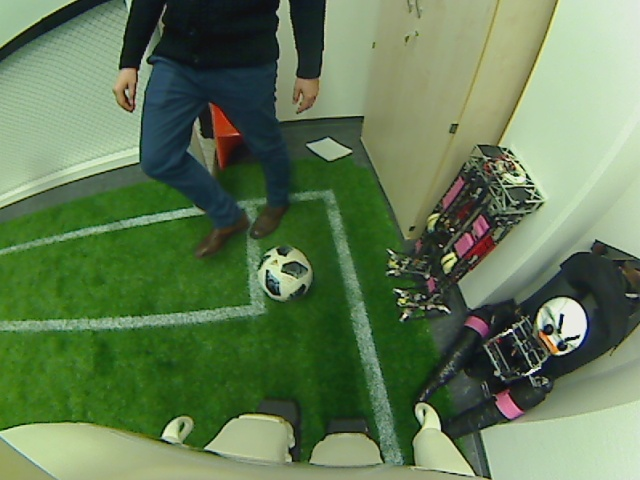ball: (255, 244, 315, 304)
